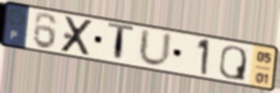1: (195, 38, 213, 78)
6: (32, 11, 58, 51)
Q: (217, 45, 248, 83)
T: (106, 21, 137, 65)
U: (136, 26, 174, 70)
X: (58, 15, 97, 58)
